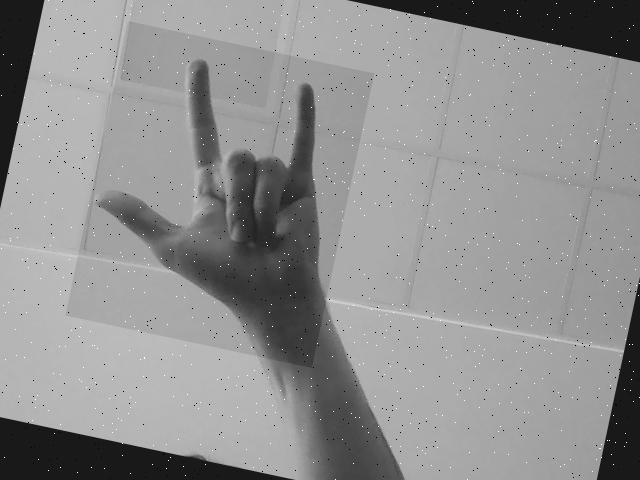I_Love_You: (92, 39, 326, 355)
